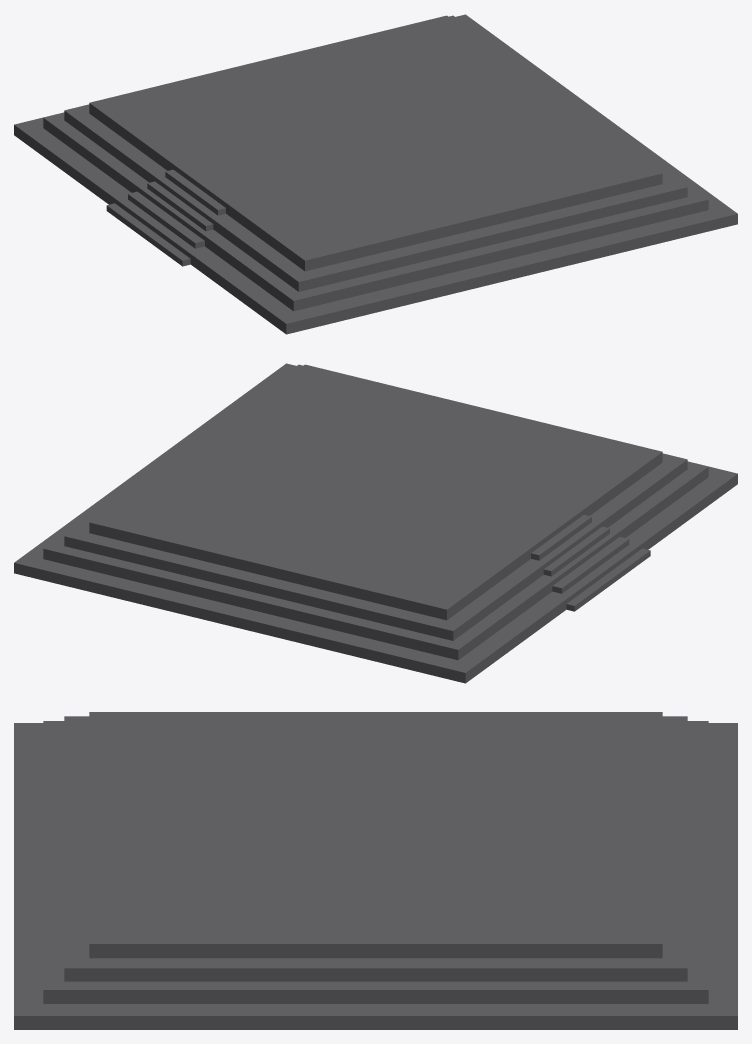
The model's file is foundation1.fbx.
The picture shows the model from 3 angles, top to bottom: view 1: azimuth 30°, elevation 25°; view 2: azimuth 150°, elevation 25°; view 3: azimuth 270°, elevation 25°; orthographic projection. The views are drawn at different scales.
Parts seen in each view (by area): view 1: foundation1; view 2: foundation1; view 3: foundation1.
Part boxes in pixels (<box>): foundation1: <box>14,14,737,334</box>; foundation1: <box>14,363,737,683</box>; foundation1: <box>14,712,737,1029</box>.
Bounding box in the file's own units: 3452 × 299 × 3542.
